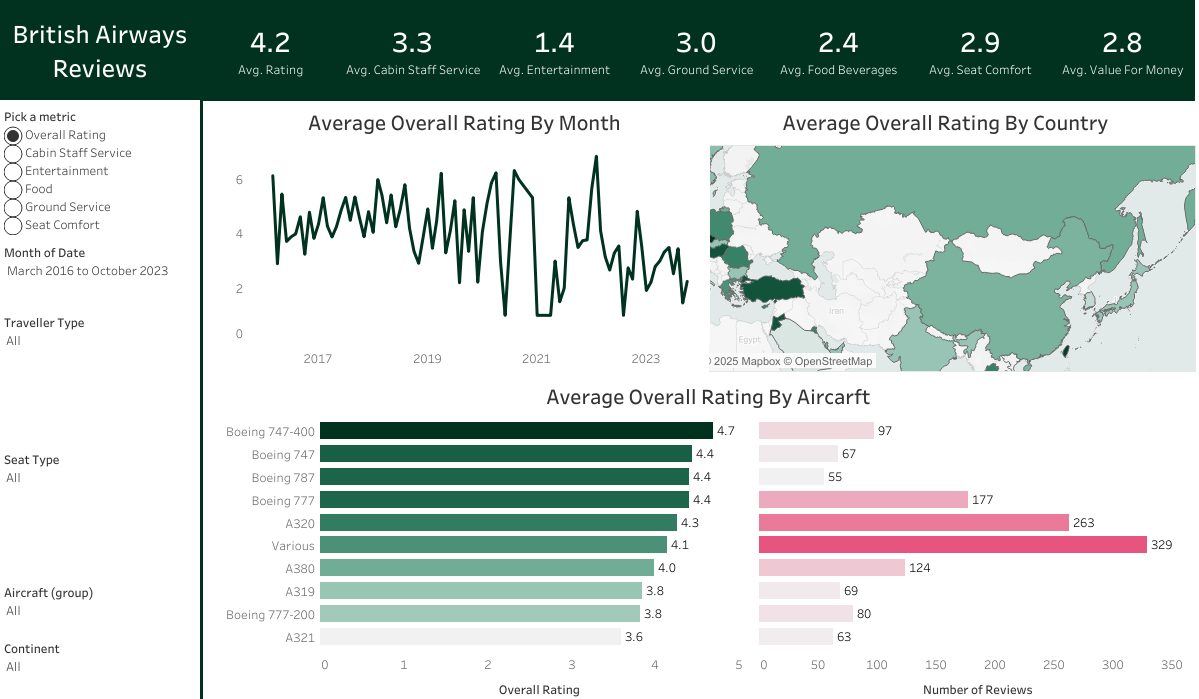

What the dashboard file says about the page in this screenshot:
{"tool":"tableau","page":{"name":"Dashboard 1","canvas":[1200,700],"ordinal":0},"visuals":[{"type":"text","box":[0,0,200,100]},{"type":"worksheet","title":"Summary","mark":"Automatic","box":[200,0,994,100]},{"type":"blank","box":[200,100,3,600]},{"type":"parameter","param":"[Parameters].[Parameter 1]","box":[0,102,200,144]},{"type":"worksheet","title":"Month","mark":"Automatic","rows":["Calculation_227150369981845504"],"cols":["date"],"box":[220,102,489,270]},{"type":"worksheet","title":"Map","mark":"Automatic","box":[695,102,501,270]},{"type":"filter","title":"Map","param":"[federated.10rd03h08bbjt11f6c8nk1vhy1kk].[tmn:date:qk]","box":[0,246,200,69]},{"type":"filter","title":"Map","param":"[federated.10rd03h08bbjt11f6c8nk1vhy1kk].[none:traveller_type:nk]","box":[0,315,200,144]},{"type":"filter","title":"Map","param":"[federated.10rd03h08bbjt11f6c8nk1vhy1kk].[none:seat_type:nk]","box":[0,459,200,127]},{"type":"filter","title":"Map","param":"[federated.10rd03h08bbjt11f6c8nk1vhy1kk].[Aircraft (group)]","box":[0,586,200,52]},{"type":"filter","title":"Map","param":"[federated.10rd03h08bbjt11f6c8nk1vhy1kk].[none:Continent:nk]","box":[0,638,200,52]}]}

Visuals, with their boxes in screenshot pixels (x1, y1, x2, y2), scaled from the page's 1200x700 canvas onto the 1199x699 screenshot:
text: region(0, 0, 200, 100)
"Summary" worksheet: region(200, 0, 1193, 100)
blank: region(200, 100, 203, 698)
parameter: region(0, 102, 200, 246)
"Month" worksheet: region(220, 102, 708, 371)
"Map" worksheet: region(694, 102, 1195, 371)
"Map" filter: region(0, 246, 200, 315)
"Map" filter: region(0, 315, 200, 458)
"Map" filter: region(0, 458, 200, 585)
"Map" filter: region(0, 585, 200, 637)
"Map" filter: region(0, 637, 200, 689)
